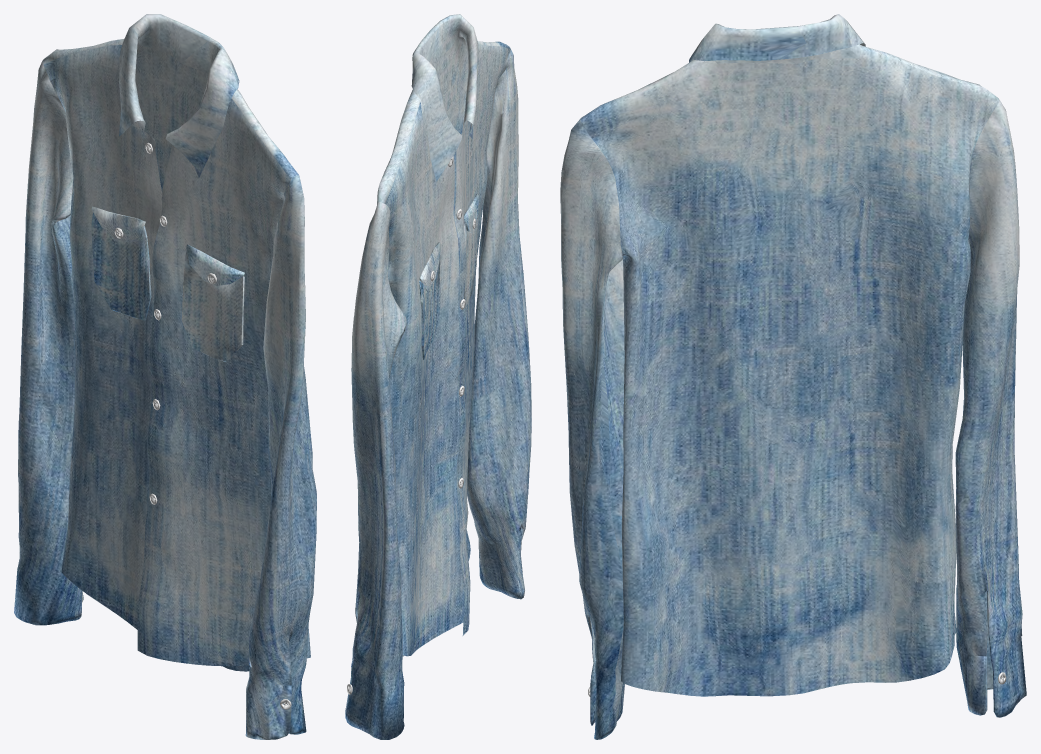
The model's file is rod-shirt044.glb.
3 views of the same model, side by side, from view 1: azimuth 30°, elevation 25°; view 2: azimuth 150°, elevation 25°; view 3: azimuth 270°, elevation 25° (orthographic). The views are drawn at different scales.
Parts seen in each view (by area): view 1: shirt044.001; view 2: shirt044.001; view 3: shirt044.001.
Part boxes in pixels (x1,y1,x2,y2): shirt044.001: [14, 14, 316, 739]; shirt044.001: [345, 14, 531, 739]; shirt044.001: [560, 14, 1026, 739].
Bounding box in the file's own units: 0.1525 × 0.7998 × 0.4818.
1 material, 1 textured.
